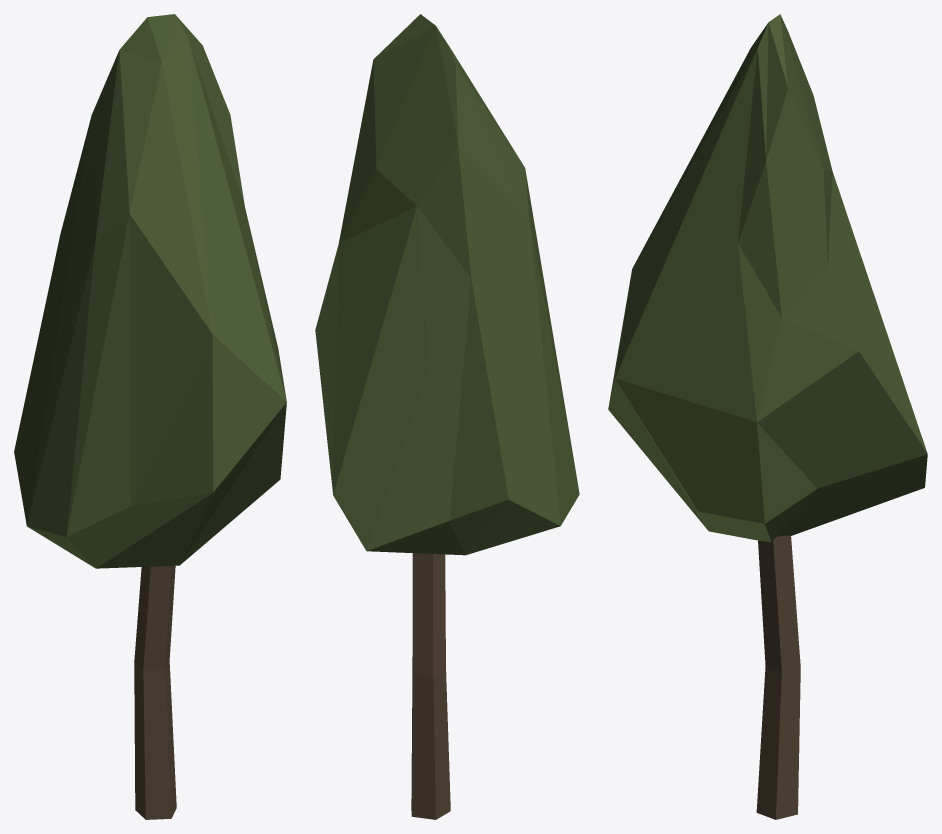
File: Tree_074.fbx
3 views of the same model, side by side, from view 1: azimuth 30°, elevation 25°; view 2: azimuth 150°, elevation 25°; view 3: azimuth 270°, elevation 25° (orthographic).
Visible parts, largest first — view 1: Tree_074; view 2: Tree_074; view 3: Tree_074.
Boxes of the visible parts, x1=… form: Tree_074: x1=14, y1=14, x2=286, y2=819; Tree_074: x1=315, y1=14, x2=579, y2=819; Tree_074: x1=608, y1=14, x2=927, y2=819.
Size of the model in its own units: 0.6606 by 2.08 by 0.757.
Materials: 1 (1 with a texture image).
